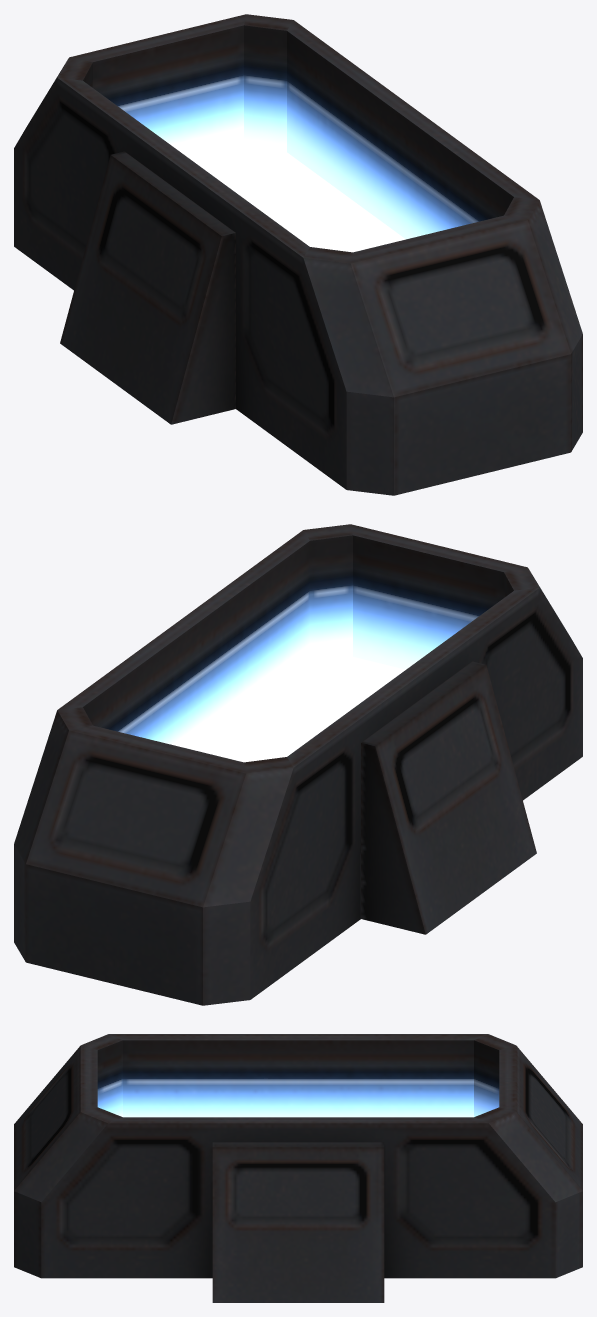
File: ManeuveringThruster1.fbx
3 views of the same model, one above another, from view 1: azimuth 30°, elevation 25°; view 2: azimuth 150°, elevation 25°; view 3: azimuth 270°, elevation 25° (orthographic). The views are drawn at different scales.
Visible parts, largest first — view 1: ManeuveringThruster1; view 2: ManeuveringThruster1; view 3: ManeuveringThruster1.
Boxes of the visible parts, x1=… form: ManeuveringThruster1: x1=14, y1=14, x2=582, y2=495; ManeuveringThruster1: x1=14, y1=524, x2=582, y2=1005; ManeuveringThruster1: x1=14, y1=1034, x2=582, y2=1302.
Size of the model in its own units: 8.28 by 4.34 by 14.42.
